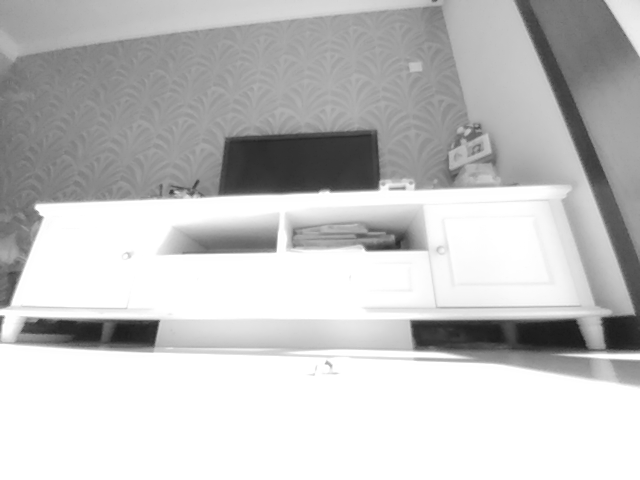pet feces: (312, 356, 338, 375)
